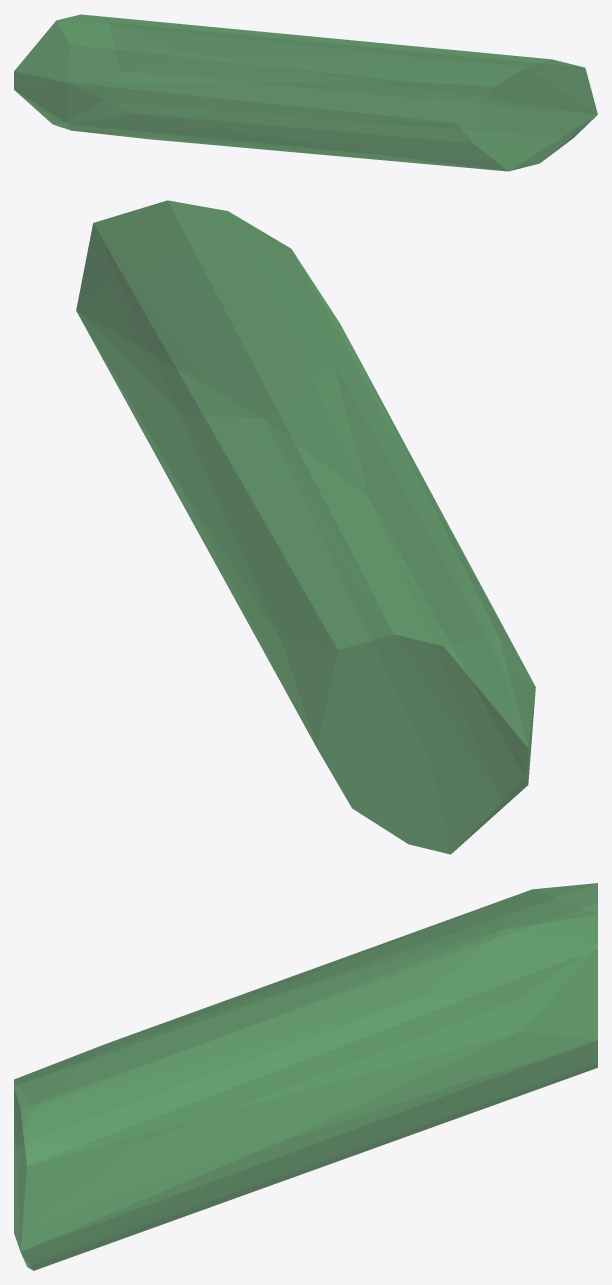
3 views of the same model, one above another, from view 1: azimuth 30°, elevation 25°; view 2: azimuth 150°, elevation 25°; view 3: azimuth 270°, elevation 25° (orthographic). The views are drawn at different scales.
Visible parts, largest first — view 1: Shape_IndexedFaceSet.003_Shape_IndexedFaceSet.4845; view 2: Shape_IndexedFaceSet.003_Shape_IndexedFaceSet.4845; view 3: Shape_IndexedFaceSet.003_Shape_IndexedFaceSet.4845.
Boxes of the visible parts, x1,y1,x2,y2 form: Shape_IndexedFaceSet.003_Shape_IndexedFaceSet.4845: [14, 14, 597, 171]; Shape_IndexedFaceSet.003_Shape_IndexedFaceSet.4845: [76, 200, 535, 854]; Shape_IndexedFaceSet.003_Shape_IndexedFaceSet.4845: [14, 883, 597, 1270].
Size of the model in its own units: 0.1668 by 0.0464 by 0.1291.
